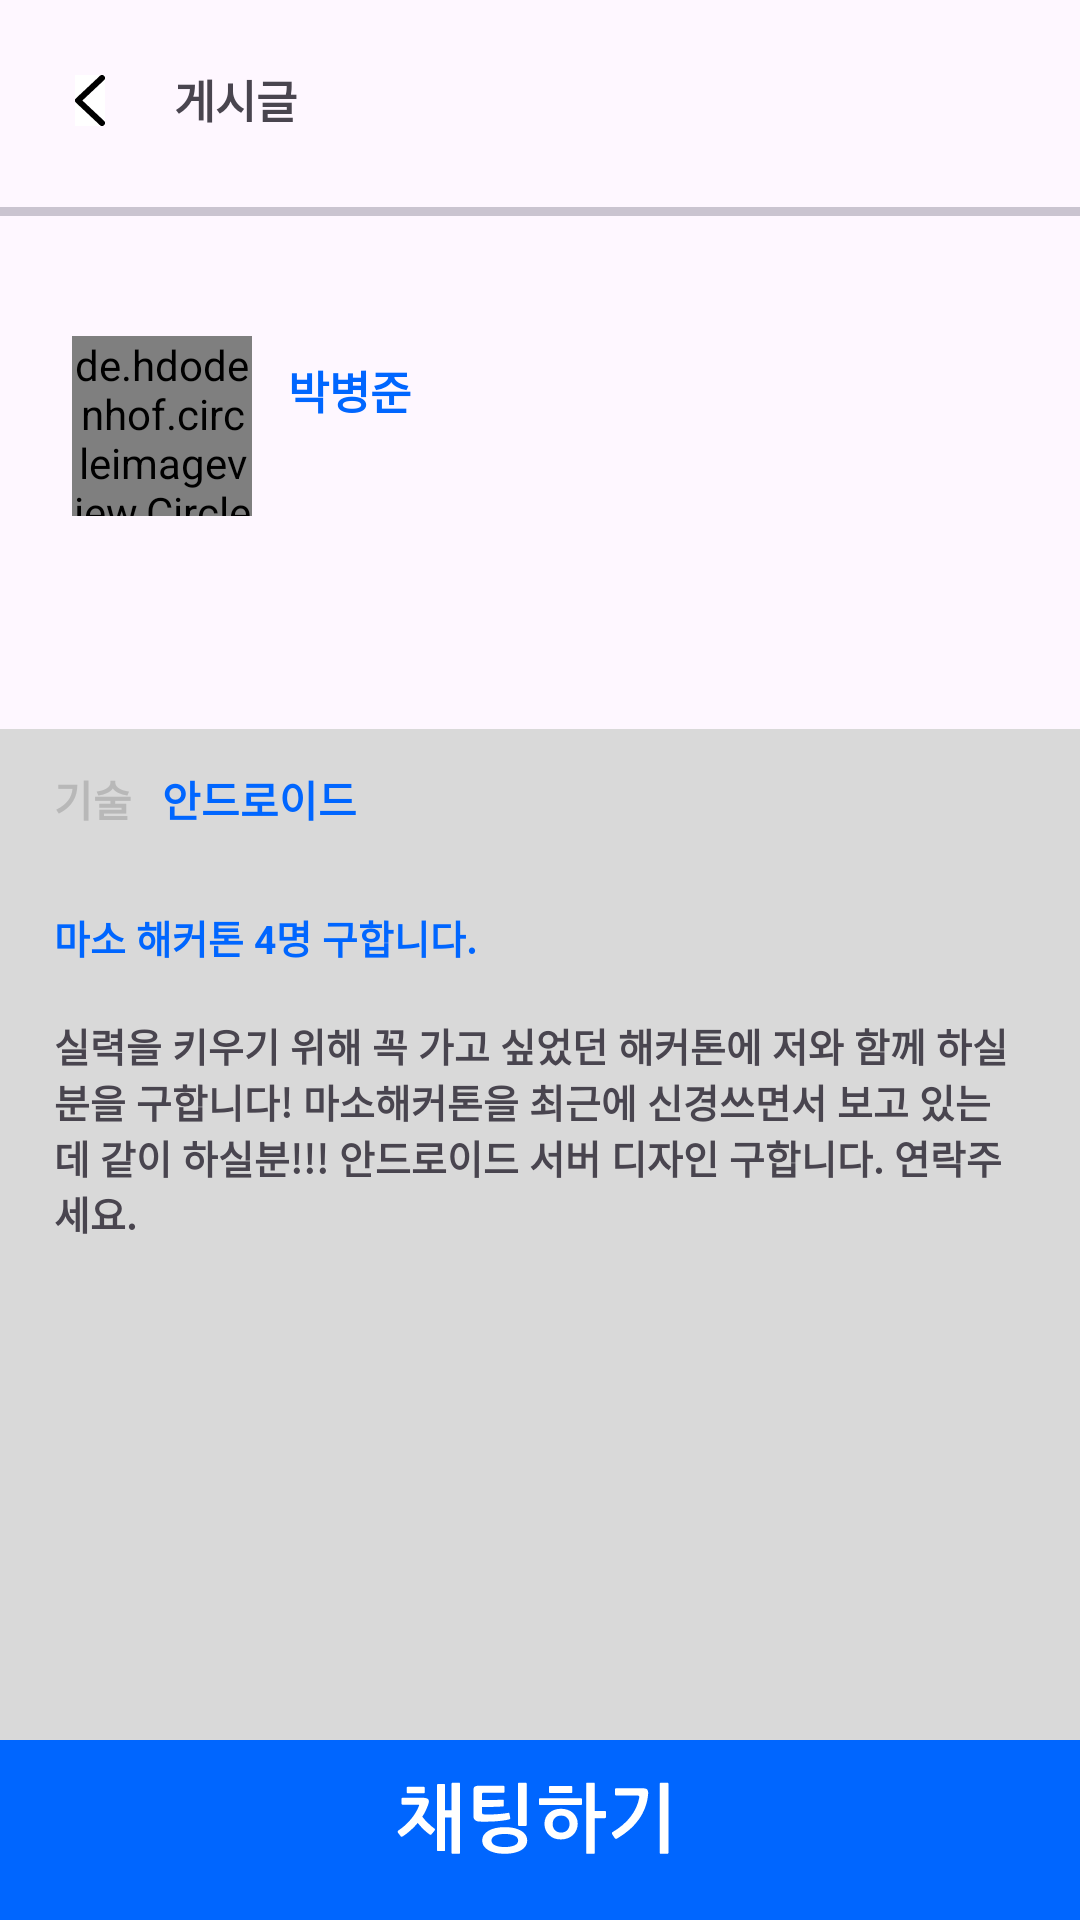

Point at icon controls on the screen. Image size 1080 x 1920, points as [x,y].
back: [90,100]
